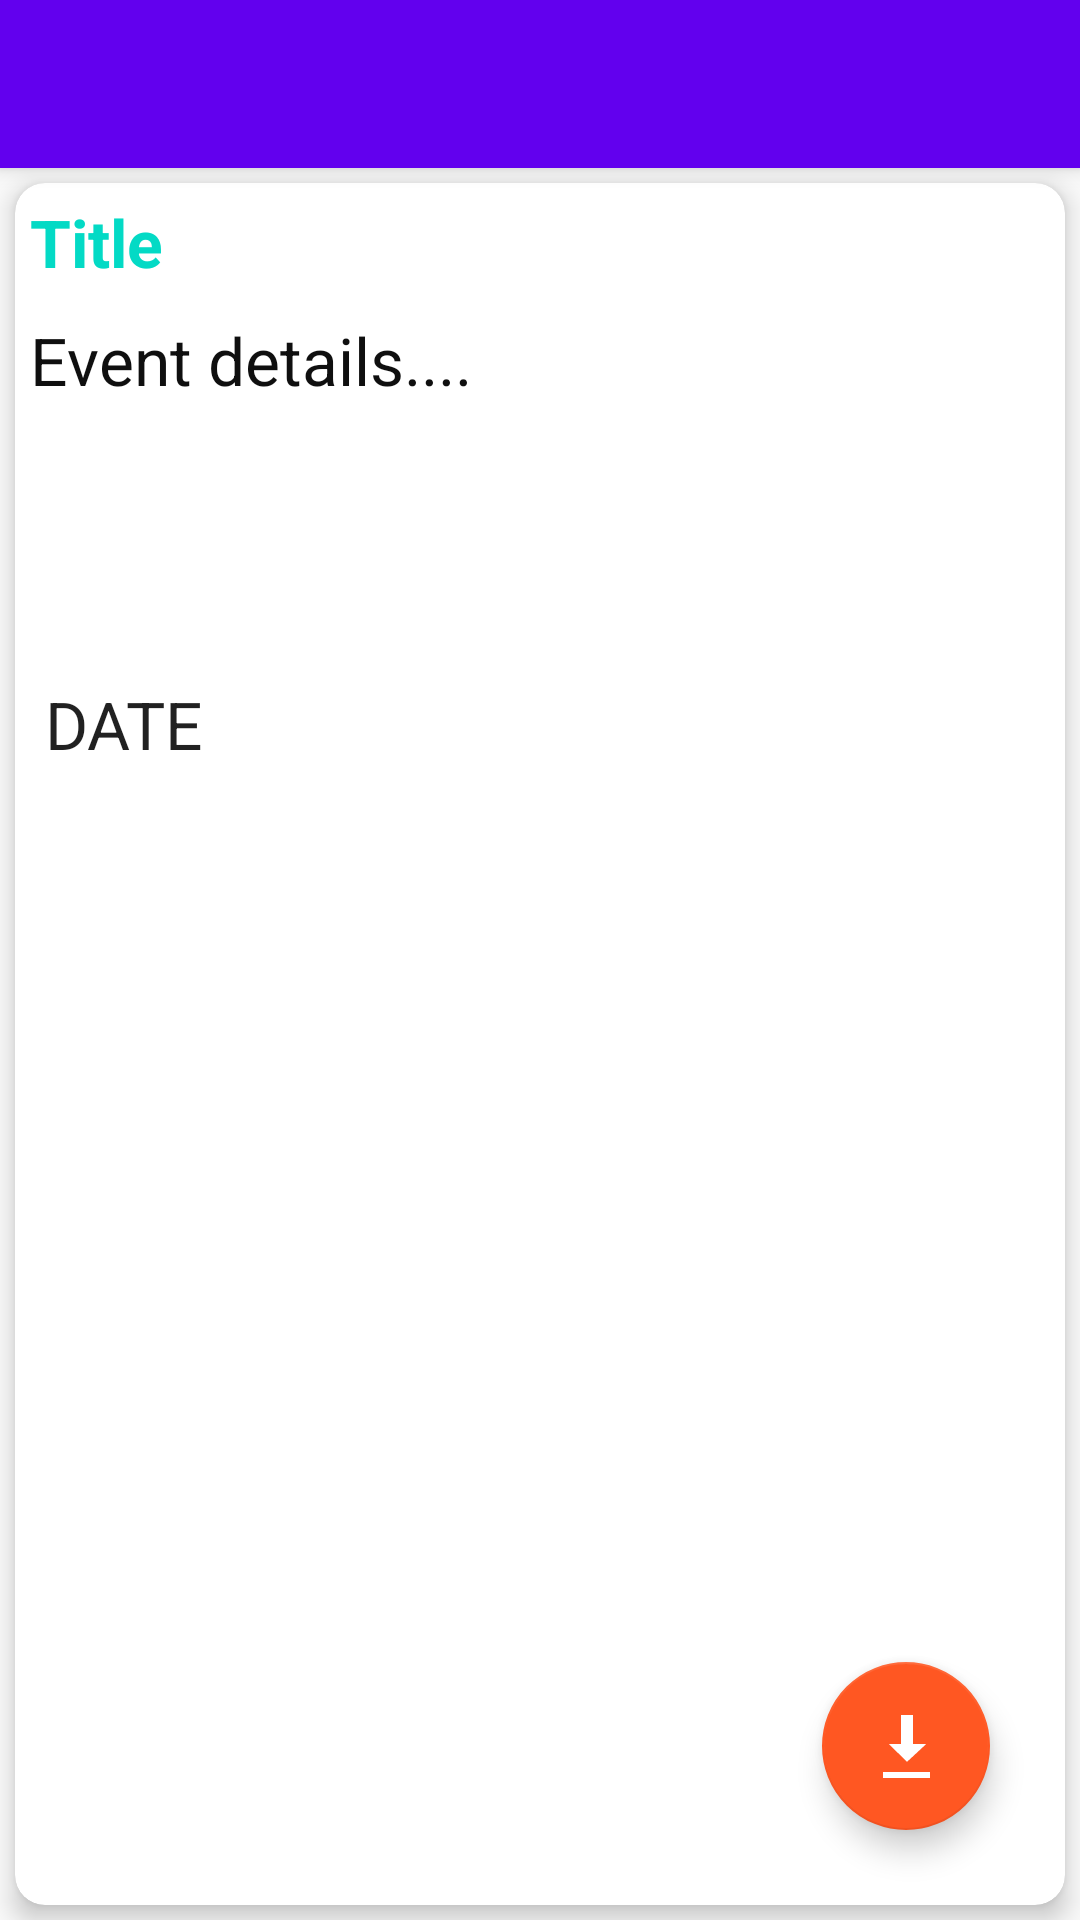

Where to tap for icons on this 1080w x 1920h app screen, as [x,y]:
download: [906,1746]
